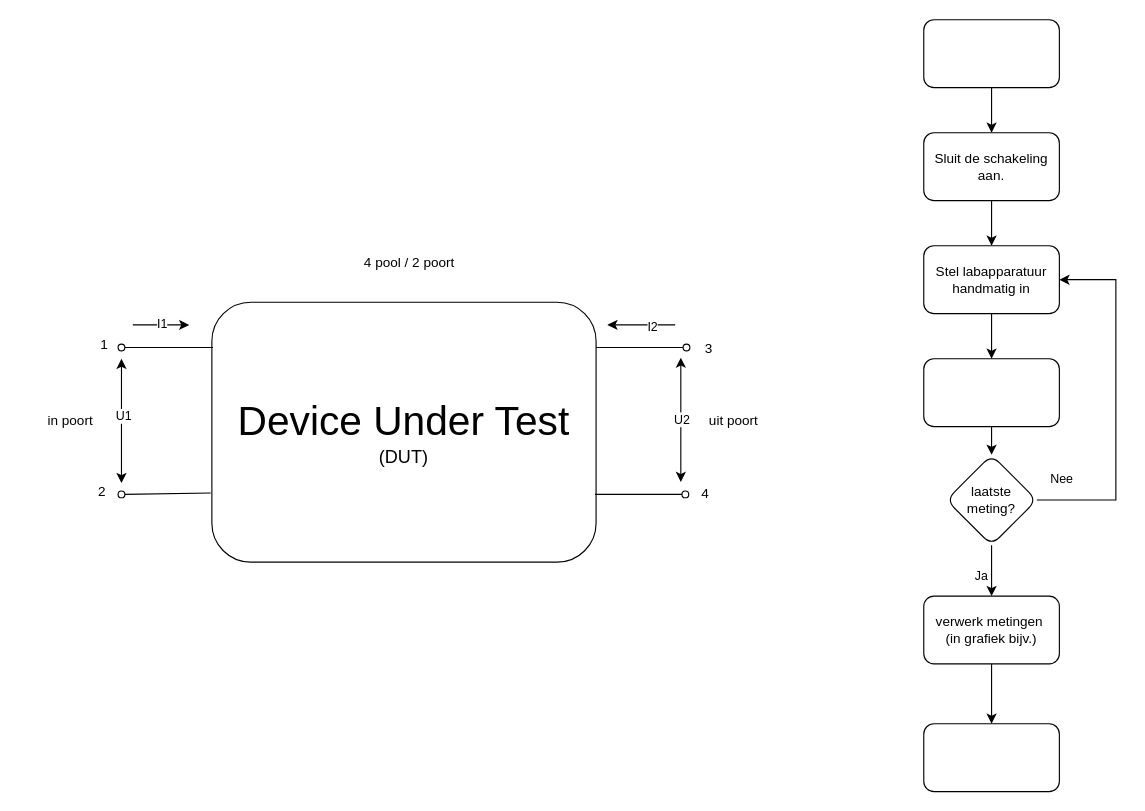
The diagram is 1145 pixels wide and 811 high, and some of its shapes have lost their labels. Here are the shapes that lost their labels. From the top down, the centre of each, then its label:
(991,53): Bouw de schakeling op
(991,392): Doe de meting: Lees de waarden af & noteer deze waarden.
(991,757): trek conclusies
